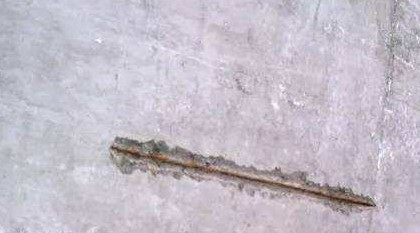Exposed reinforcement: (109, 144, 375, 208)
Spalling: (109, 135, 377, 215)
